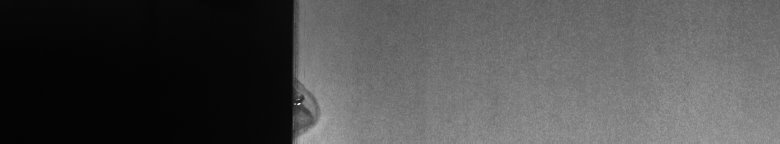hb: (304, 86, 326, 136)
